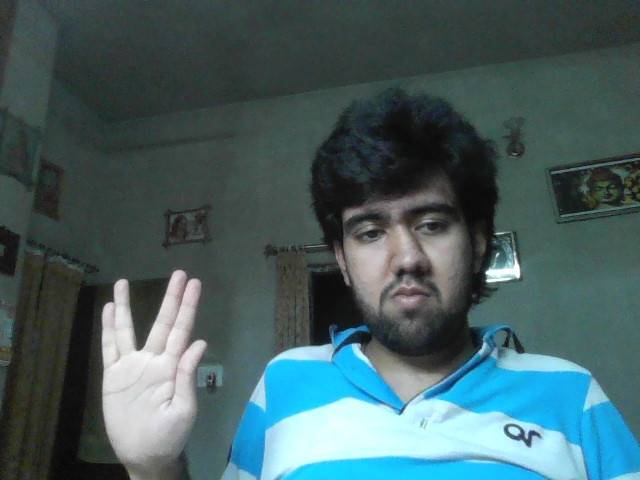LiveLong: (101, 269, 208, 462)
